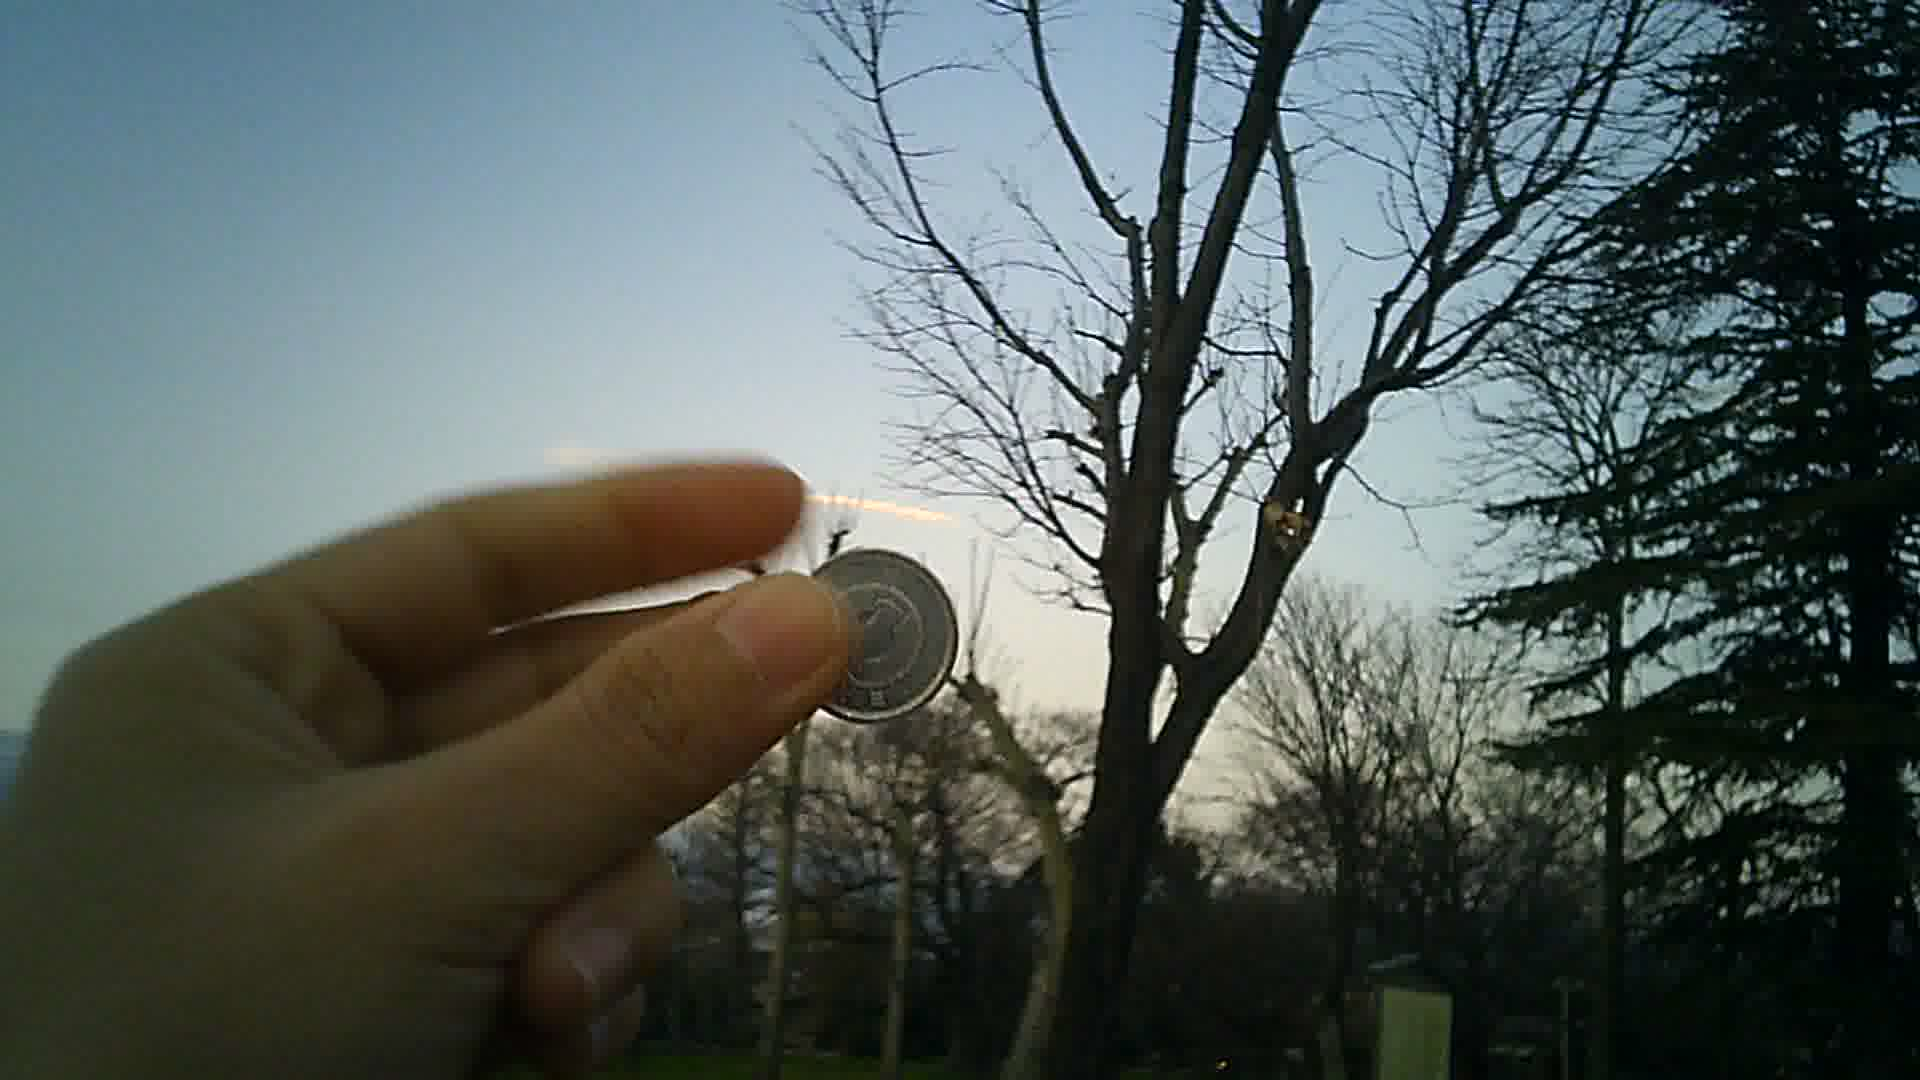1 Yen: (793, 549, 968, 728)
